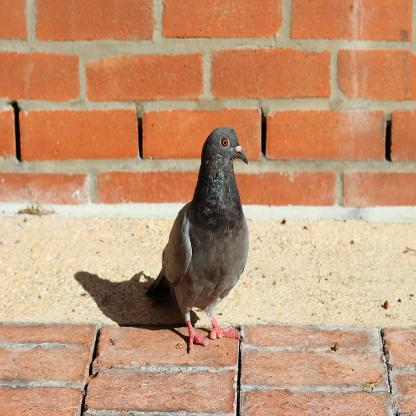Flying Rat: (151, 127, 262, 361)
